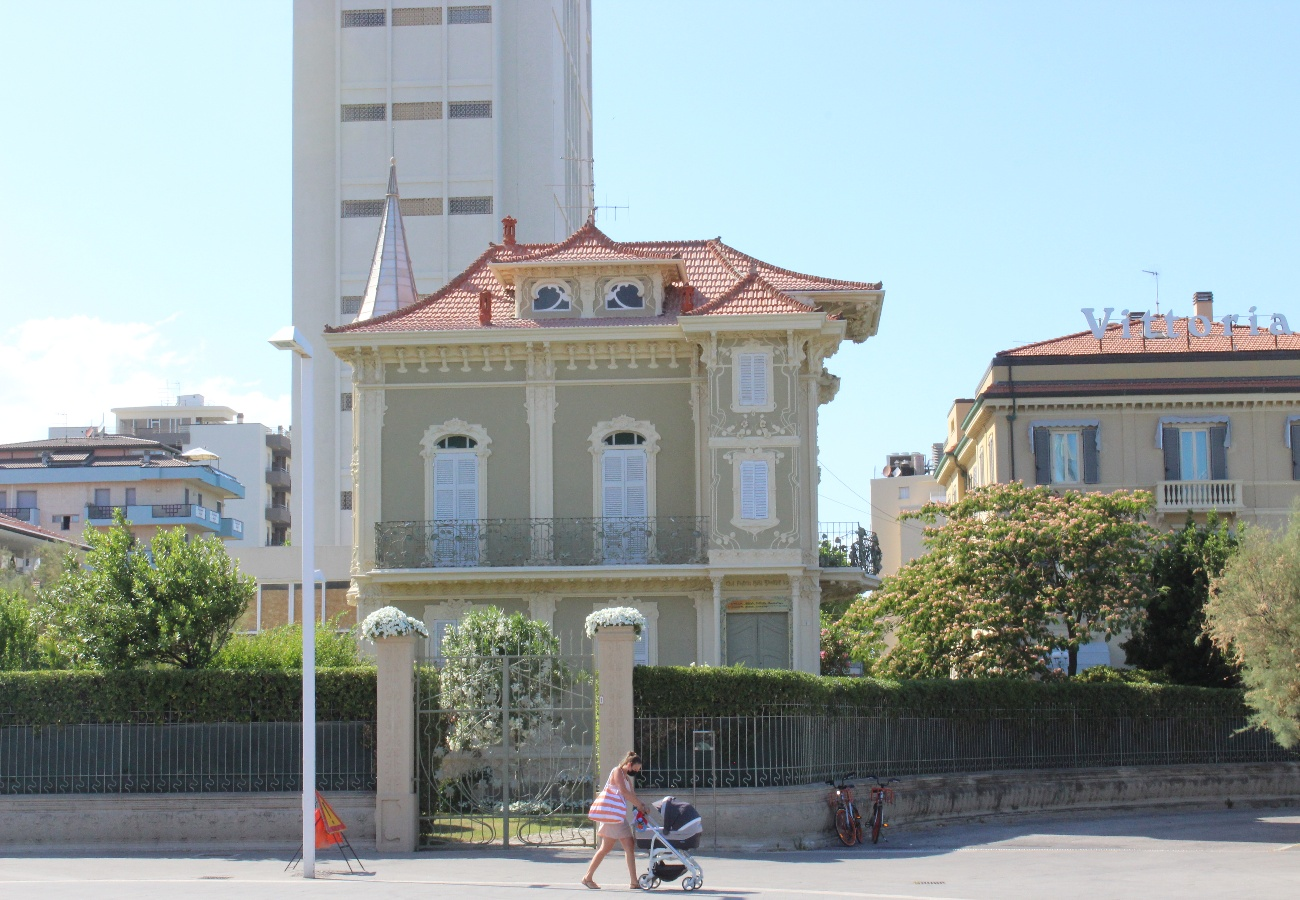Villino Ruggeri: (330, 171, 885, 756)
